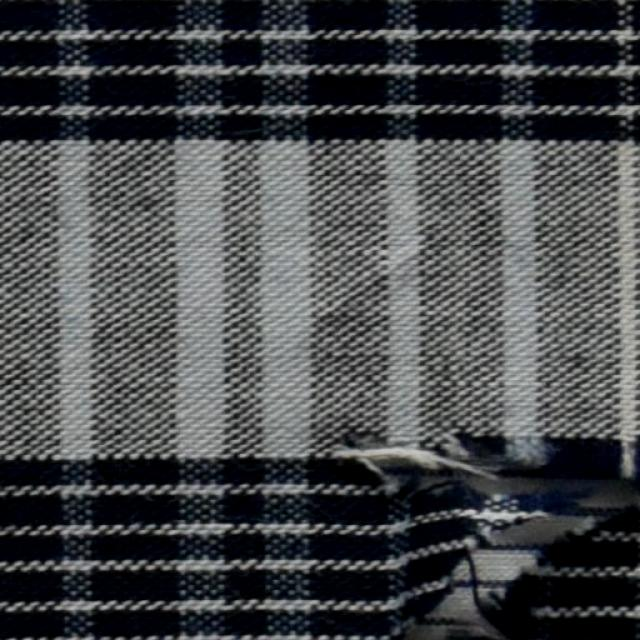Hole: (445, 475, 635, 608)
Snag: (339, 408, 511, 491)
